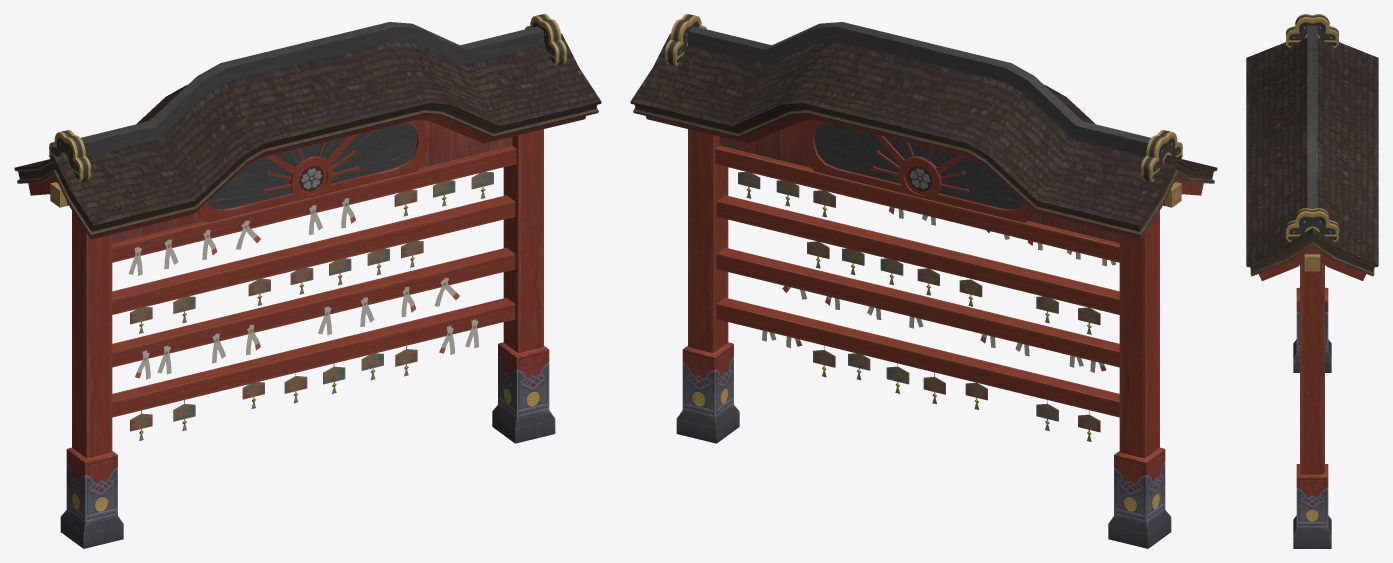
The model's file is Homeworld_Exterior_Dq_Build_House_36_Lod0.fbx.
3 renders of one model, left to right at view 1: azimuth 30°, elevation 25°; view 2: azimuth 150°, elevation 25°; view 3: azimuth 270°, elevation 25°, orthographic. The views are drawn at different scales.
Parts seen in each view (by area): view 1: Area_Dq_Prop_MS_Drawahorse_01_Lod0, Area_Dq_Prop_MS_Dashehuima_01_Lod0; view 2: Area_Dq_Prop_MS_Drawahorse_01_Lod0, Area_Dq_Prop_MS_Dashehuima_01_Lod0; view 3: Area_Dq_Prop_MS_Drawahorse_01_Lod0.
Boxes of the visible parts, x1=… form: Area_Dq_Prop_MS_Drawahorse_01_Lod0: x1=14, y1=14, x2=601, y2=548; Area_Dq_Prop_MS_Dashehuima_01_Lod0: x1=128, y1=171, x2=493, y2=440; Area_Dq_Prop_MS_Drawahorse_01_Lod0: x1=630, y1=14, x2=1217, y2=548; Area_Dq_Prop_MS_Dashehuima_01_Lod0: x1=738, y1=171, x2=1116, y2=441; Area_Dq_Prop_MS_Drawahorse_01_Lod0: x1=1246, y1=14, x2=1378, y2=548.
Size of the model in its own units: 4.81 by 3.97 by 1.3.
